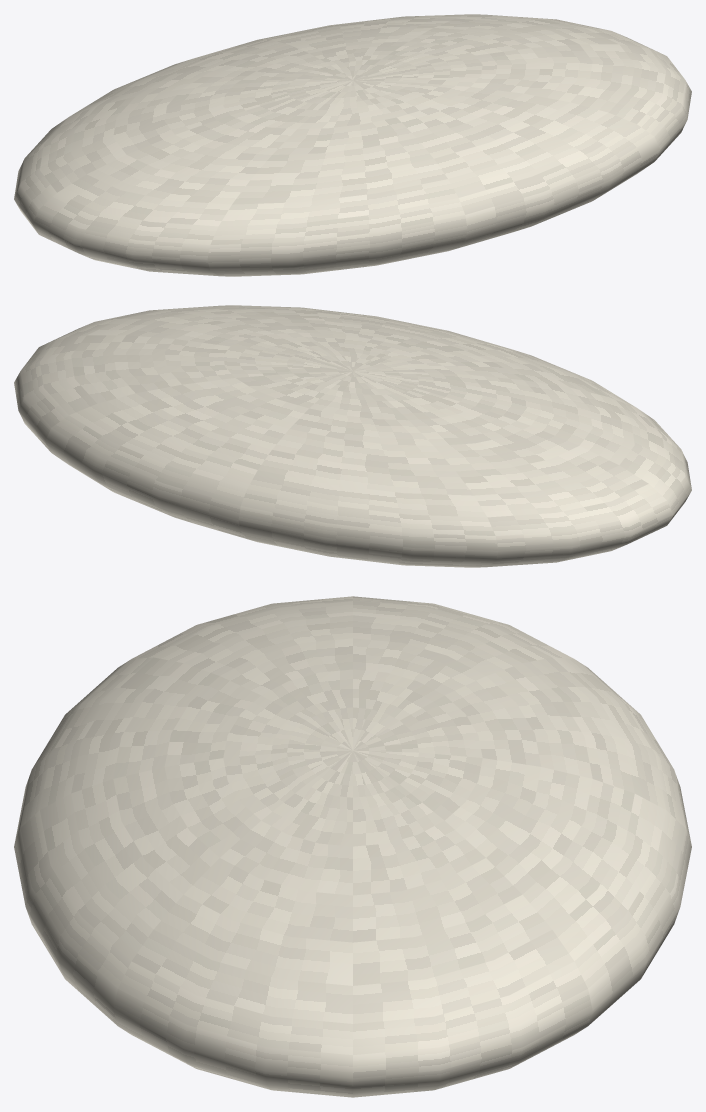
Rendered from pillow.glb.
3 renders of one model, top to bottom at view 1: azimuth 30°, elevation 25°; view 2: azimuth 150°, elevation 25°; view 3: azimuth 270°, elevation 25°, orthographic. The views are drawn at different scales.
Visible parts, largest first — view 1: fabric; view 2: fabric; view 3: fabric.
Boxes of the visible parts, left/top/right/bottom form: fabric: left=14, top=14, right=691, bottom=276; fabric: left=14, top=305, right=691, bottom=567; fabric: left=14, top=596, right=691, bottom=1097.
Bounding box in the file's own units: 0.63 × 0.1222 × 0.39.
1 material, 1 textured.
